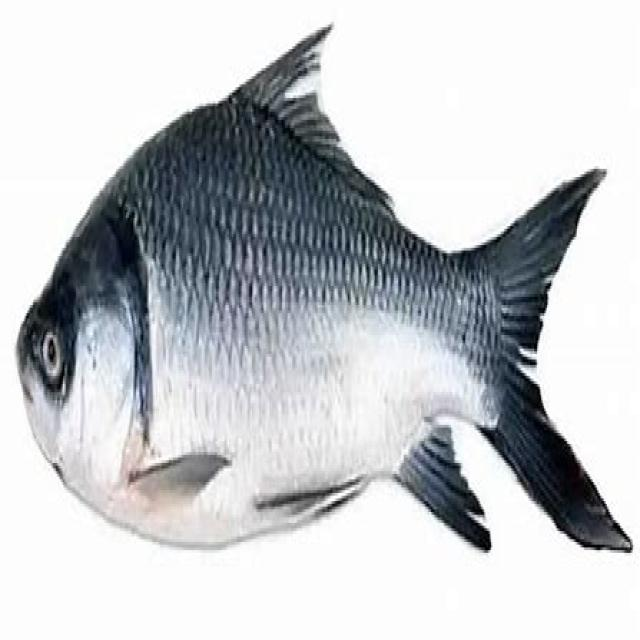Catla: (13, 25, 631, 552)
